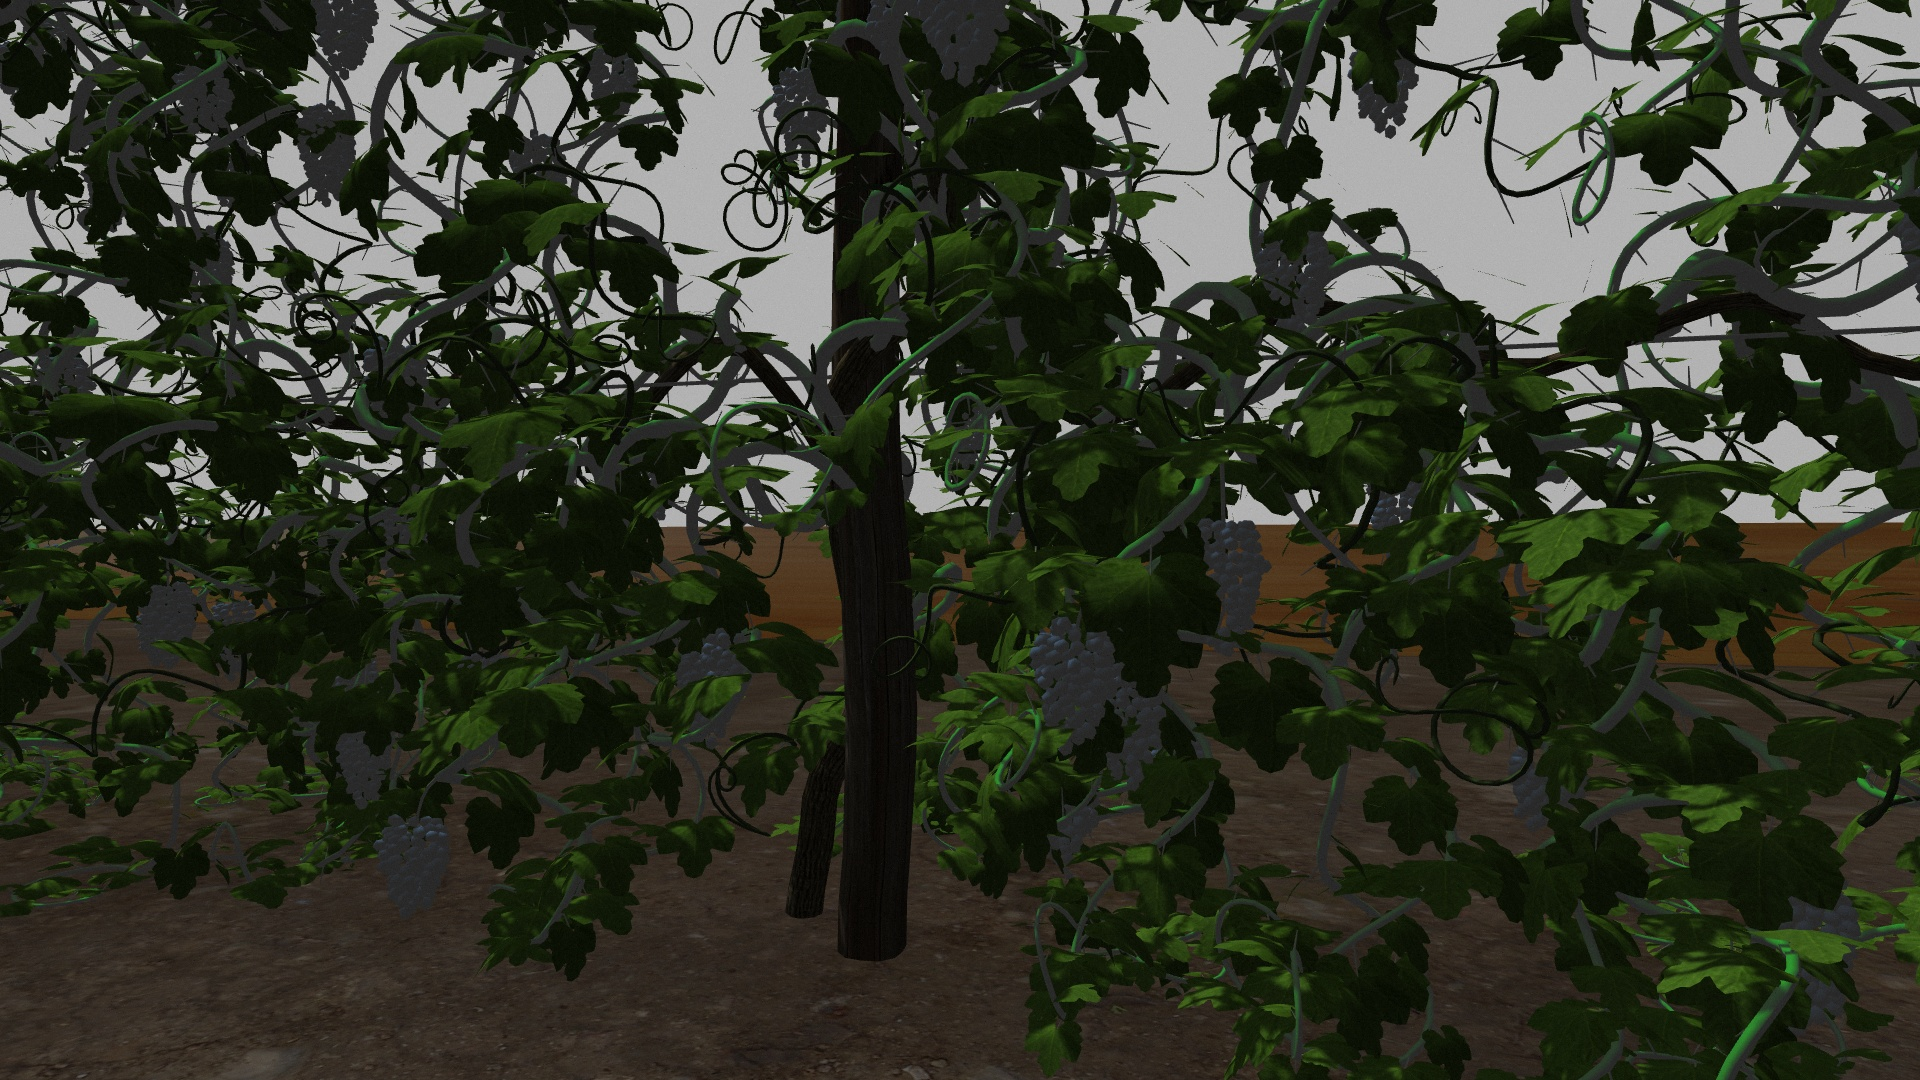grape: (1193, 513, 1273, 654), (1031, 621, 1110, 742), (671, 634, 750, 752), (371, 816, 454, 924), (1259, 214, 1338, 320), (915, 7, 1010, 88), (294, 102, 364, 208), (1106, 671, 1166, 786), (1346, 49, 1422, 135), (135, 580, 199, 674), (770, 65, 827, 161), (332, 723, 396, 804), (311, 5, 378, 80), (585, 44, 640, 124), (170, 69, 237, 131)
